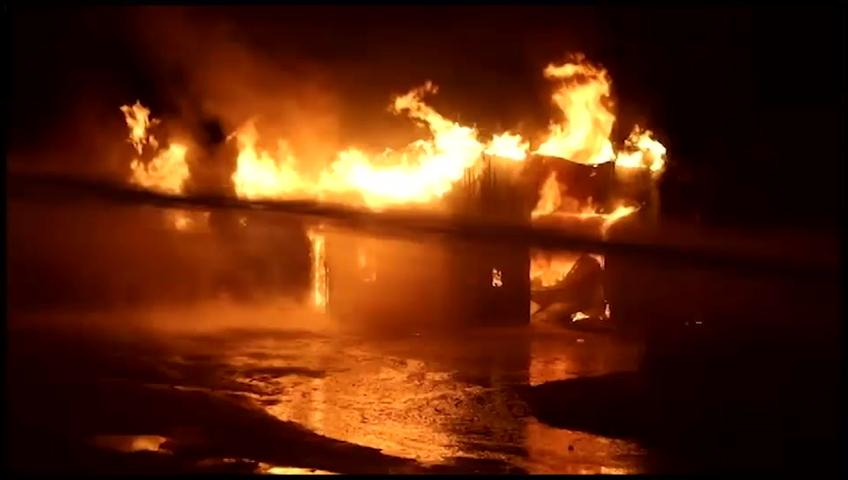Fire: (101, 46, 680, 347)
